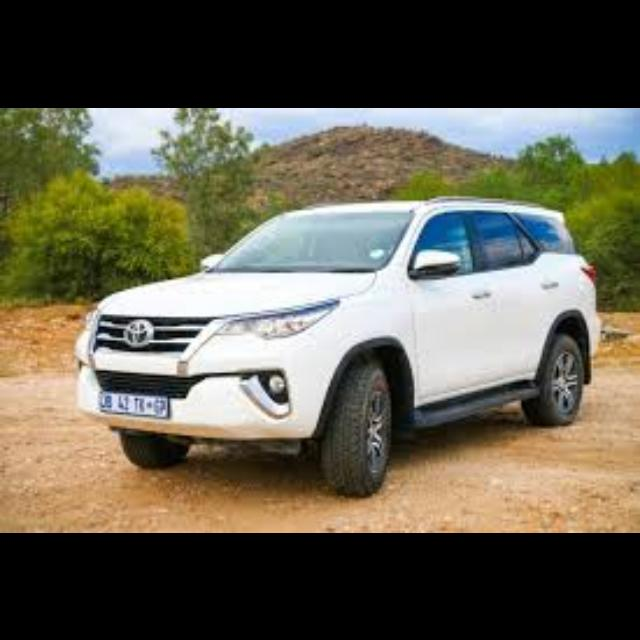vehicles: (63, 191, 612, 503)
